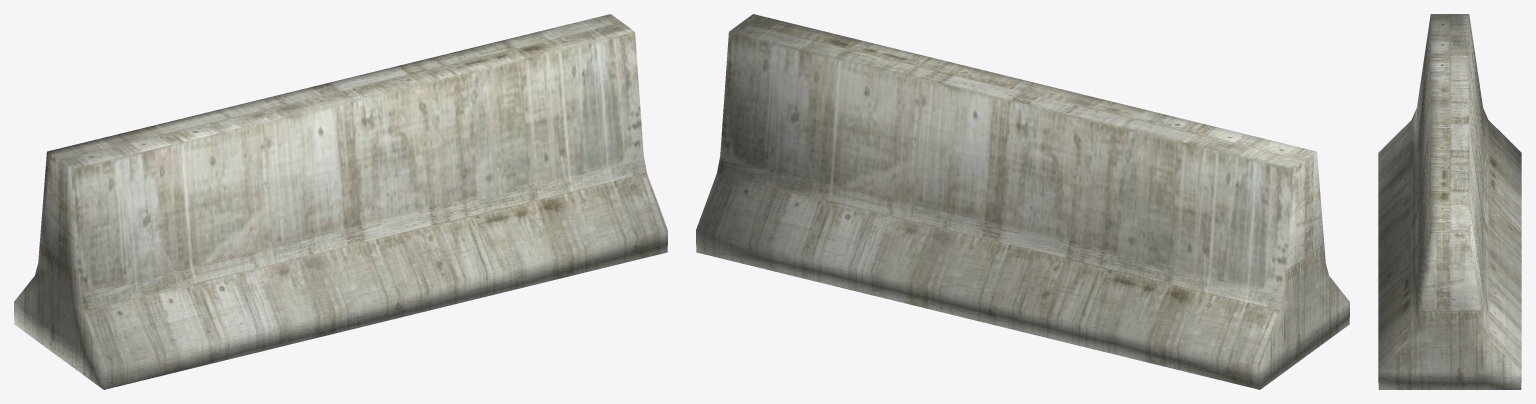
Rendered from concreteBarrier.fbx.
The picture shows the model from 3 angles, left to right: view 1: azimuth 30°, elevation 25°; view 2: azimuth 150°, elevation 25°; view 3: azimuth 270°, elevation 25°; orthographic projection. The views are drawn at different scales.
Visible parts, largest first — view 1: Box02; view 2: Box02; view 3: Box02.
Part boxes in pixels (left/top/right/bottom): Box02: left=14, top=14, right=667, bottom=389; Box02: left=696, top=14, right=1349, bottom=389; Box02: left=1378, top=14, right=1521, bottom=389.
Size of the model in its own units: 47.75 by 15.92 by 13.17.
